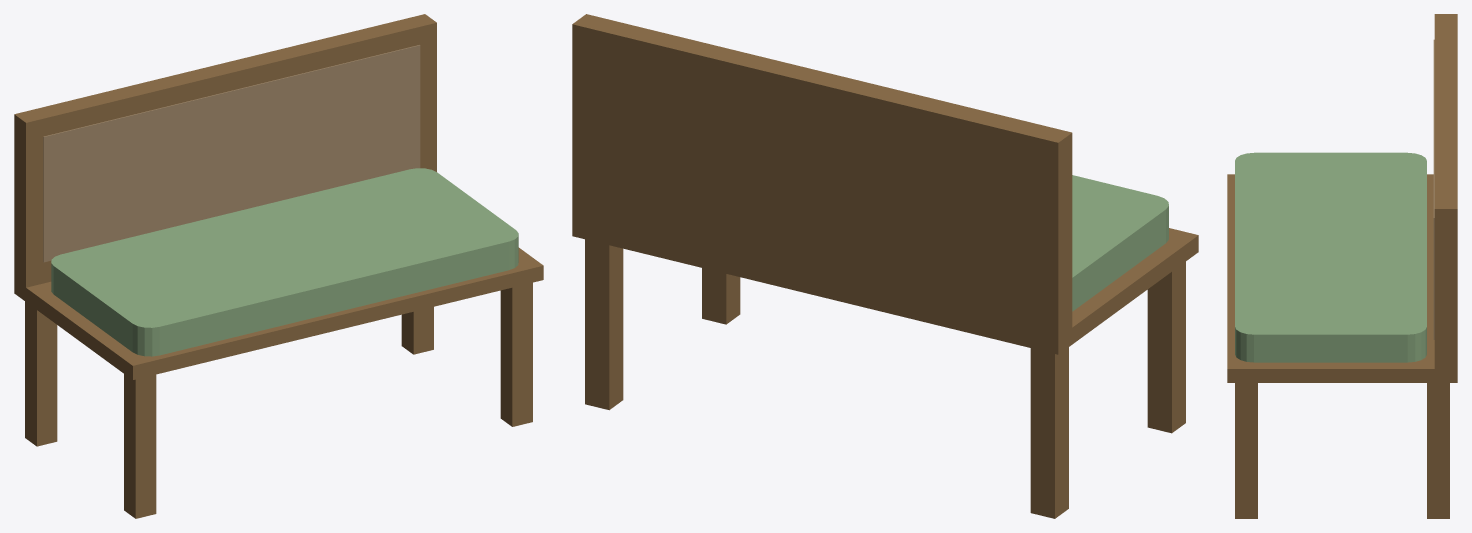
File: low_bench.glb
3 views of the same model, side by side, from view 1: azimuth 30°, elevation 25°; view 2: azimuth 150°, elevation 25°; view 3: azimuth 270°, elevation 25° (orthographic). The views are drawn at different scales.
Parts seen in each view (by area): view 1: low_bench_Body; view 2: low_bench_Body; view 3: low_bench_Body.
Part boxes in pixels (x1,y1,x2,y2): low_bench_Body: (14, 14, 543, 518); low_bench_Body: (572, 14, 1198, 518); low_bench_Body: (1227, 14, 1457, 518).
Size of the model in its own units: 1.2 by 0.9 by 0.6.
